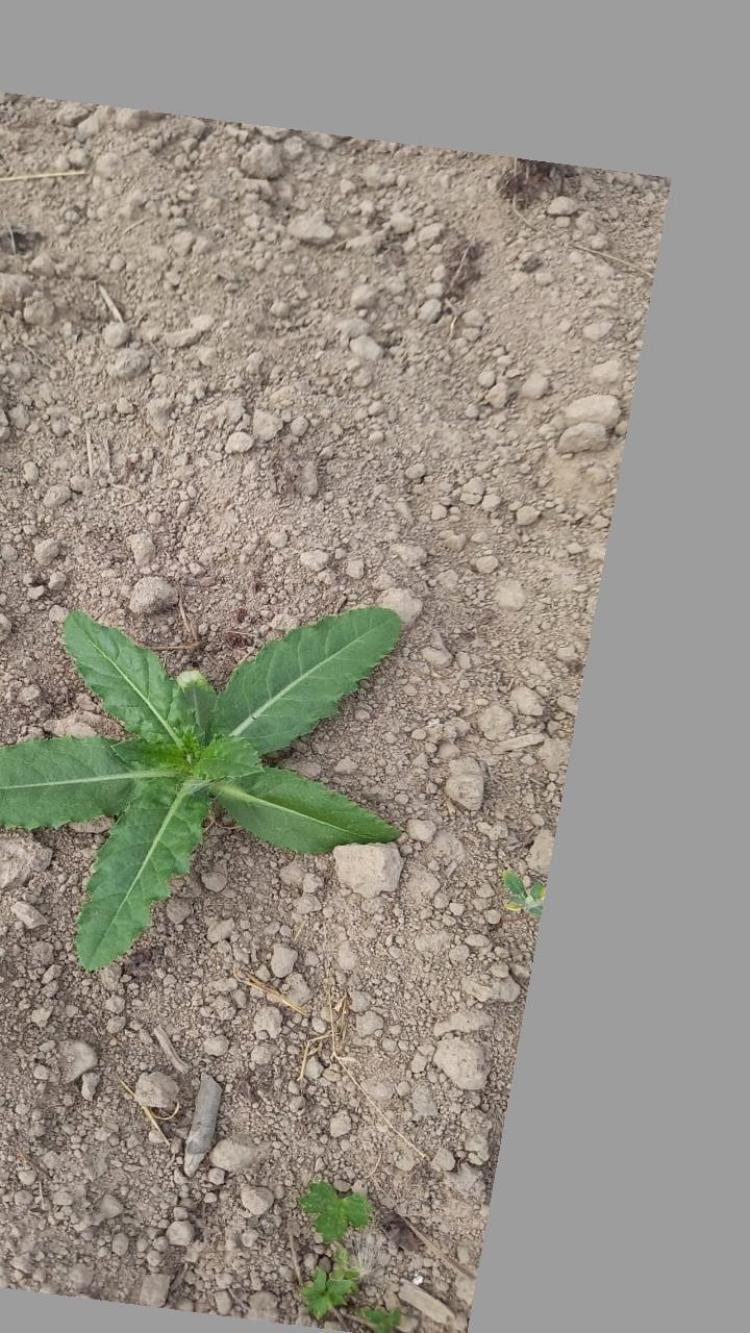osot: (12, 596, 410, 974)
